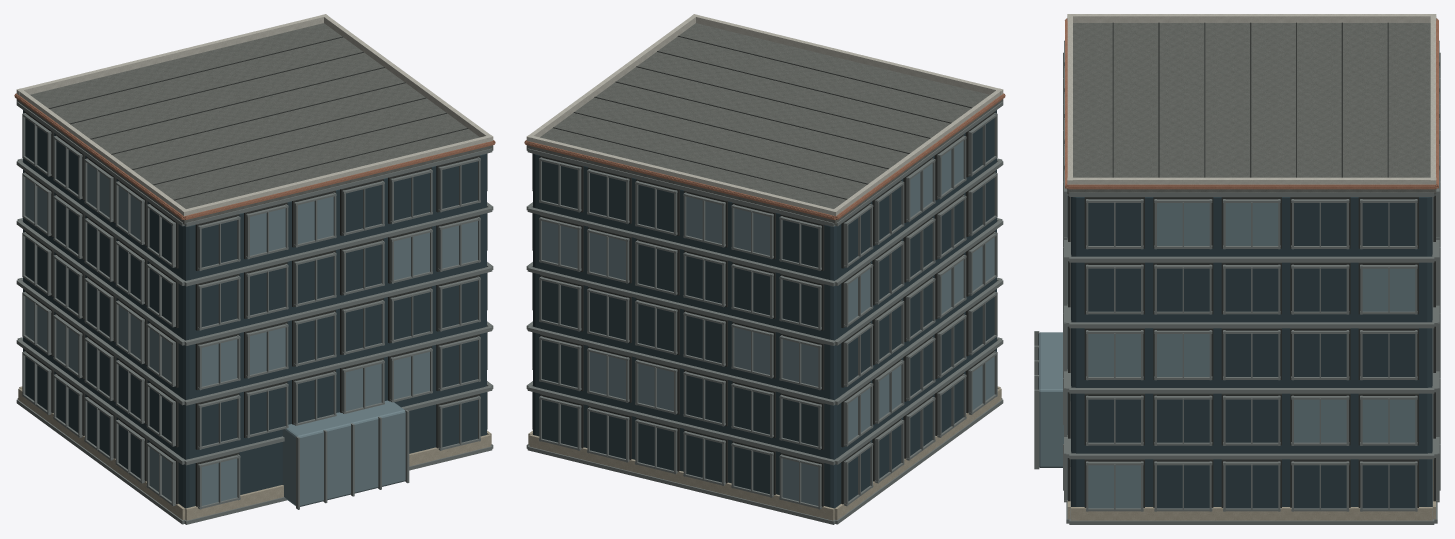
The picture shows the model from 3 angles, left to right: view 1: azimuth 30°, elevation 25°; view 2: azimuth 150°, elevation 25°; view 3: azimuth 270°, elevation 25°; orthographic projection. The views are drawn at different scales.
Visible parts, largest first — view 1: OFF_LOW_2x2_001_Visual; view 2: OFF_LOW_2x2_001_Visual; view 3: OFF_LOW_2x2_001_Visual.
Part boxes in pixels (left/top/right/bottom): OFF_LOW_2x2_001_Visual: left=14, top=14, right=495, bottom=524; OFF_LOW_2x2_001_Visual: left=524, top=14, right=1005, bottom=524; OFF_LOW_2x2_001_Visual: left=1034, top=14, right=1440, bottom=524.
Size of what is drawn, in the model's own units: 3.33 by 3.15 by 3.37.
8 materials, 4 textured.
